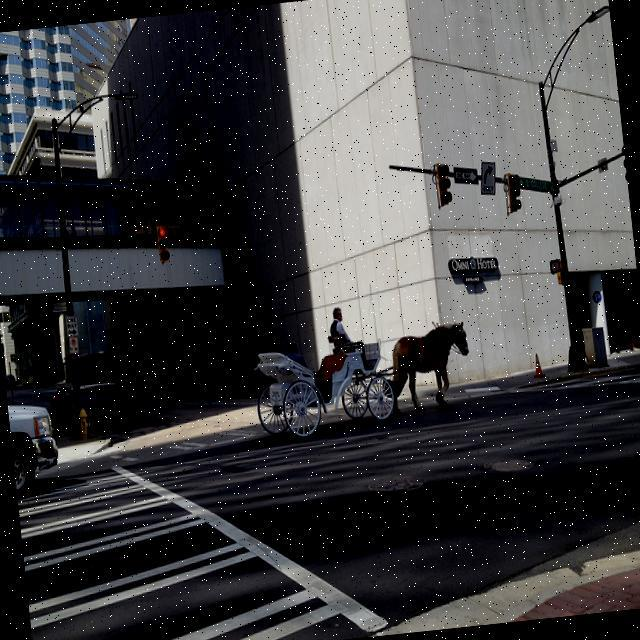fire_hydrant: (77, 404, 92, 438)
